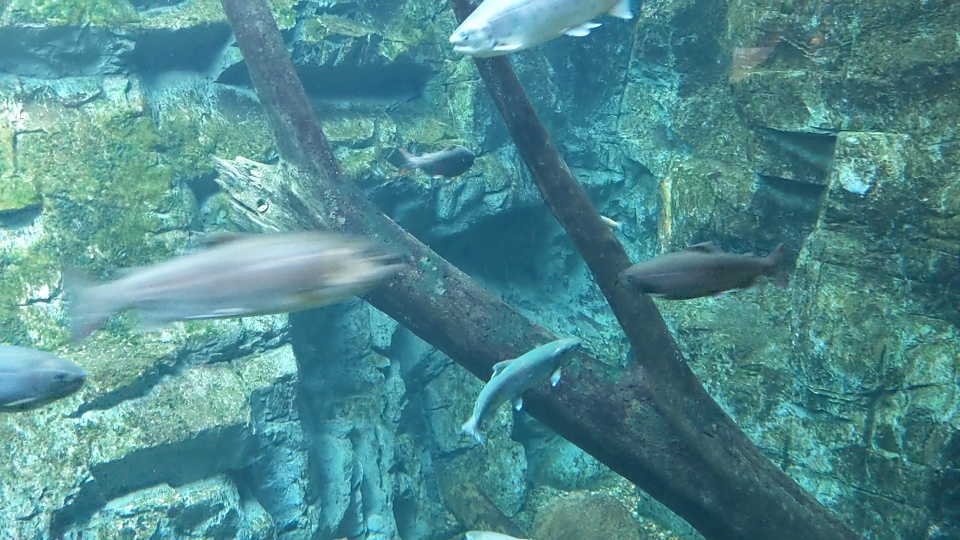Fish: (54, 232, 407, 333), (461, 328, 582, 453), (608, 243, 797, 303), (446, 0, 640, 58), (0, 340, 91, 416), (386, 138, 476, 183)
